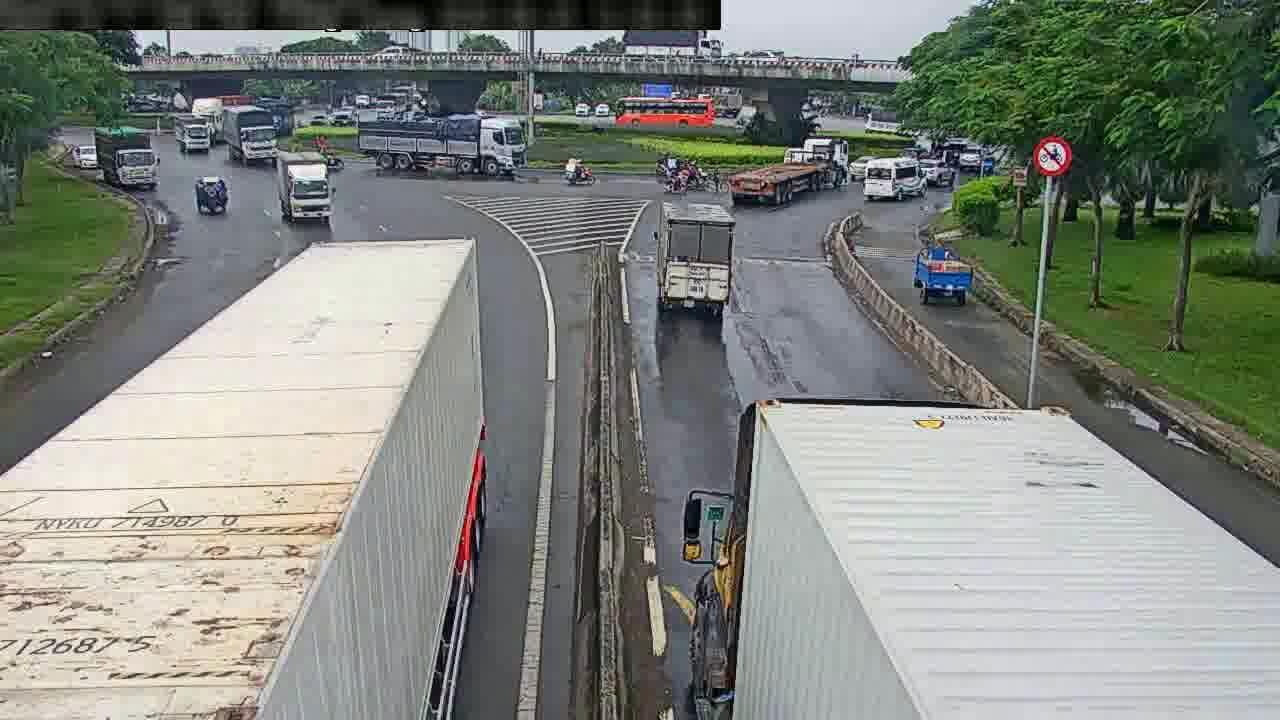8: (680, 404, 1276, 720), (647, 198, 739, 317), (350, 113, 524, 175), (729, 130, 855, 210), (87, 124, 170, 192), (271, 150, 340, 225), (222, 97, 281, 161)
container: (915, 157, 956, 186)
